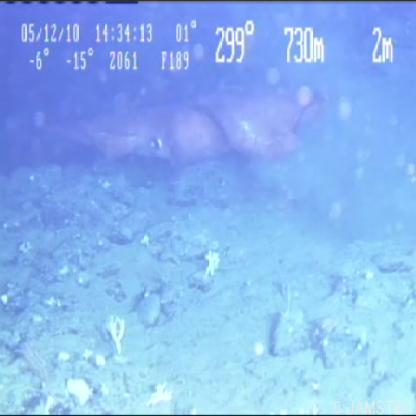Bio: (37, 86, 348, 174)
